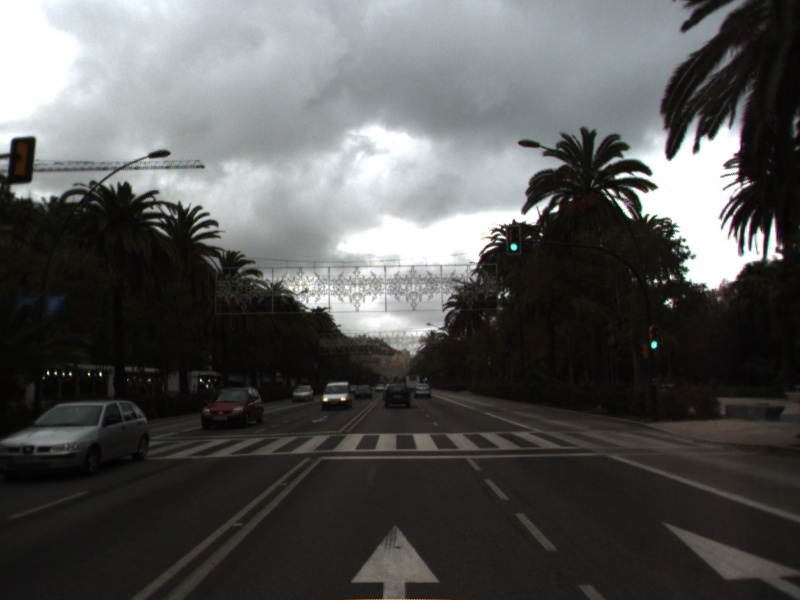STRAIGHT: (657, 518, 800, 598), (346, 520, 444, 600)
